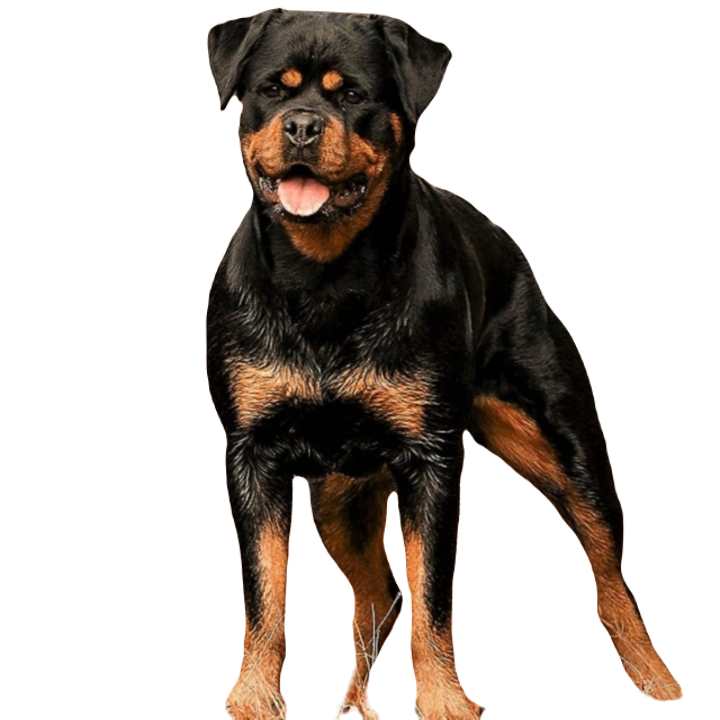Dog: (205, 8, 685, 719)
